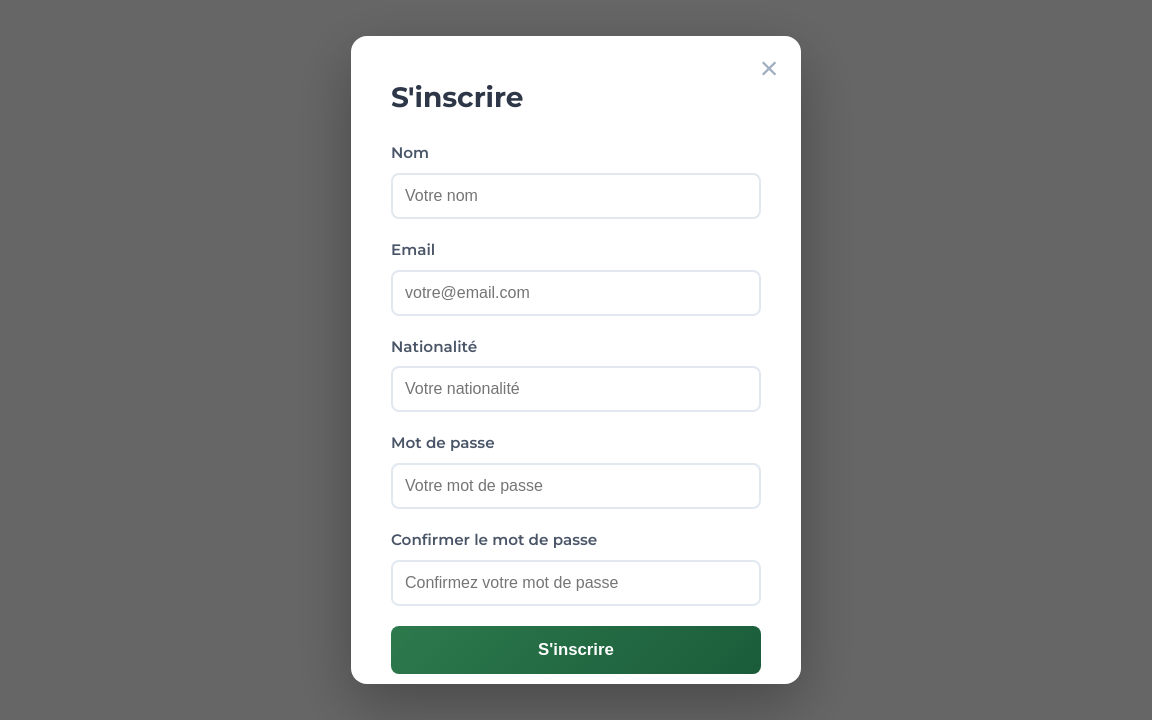
RegisterModal Component › shows error when passwords do not match
Type "John Doe" into the field with placeholder "Votre nom" at (576, 196), box [391,173,761,219]
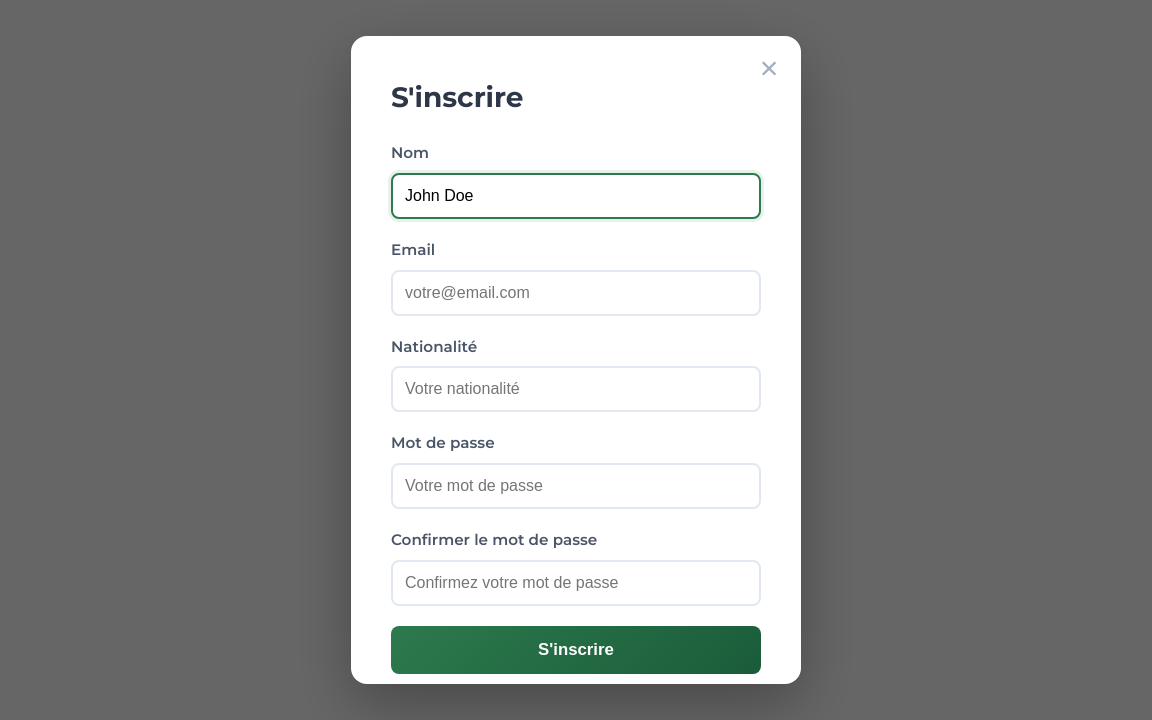
Type "john@example.com" into the field with placeholder "votre@email.com" at (576, 293), box [391,270,761,316]
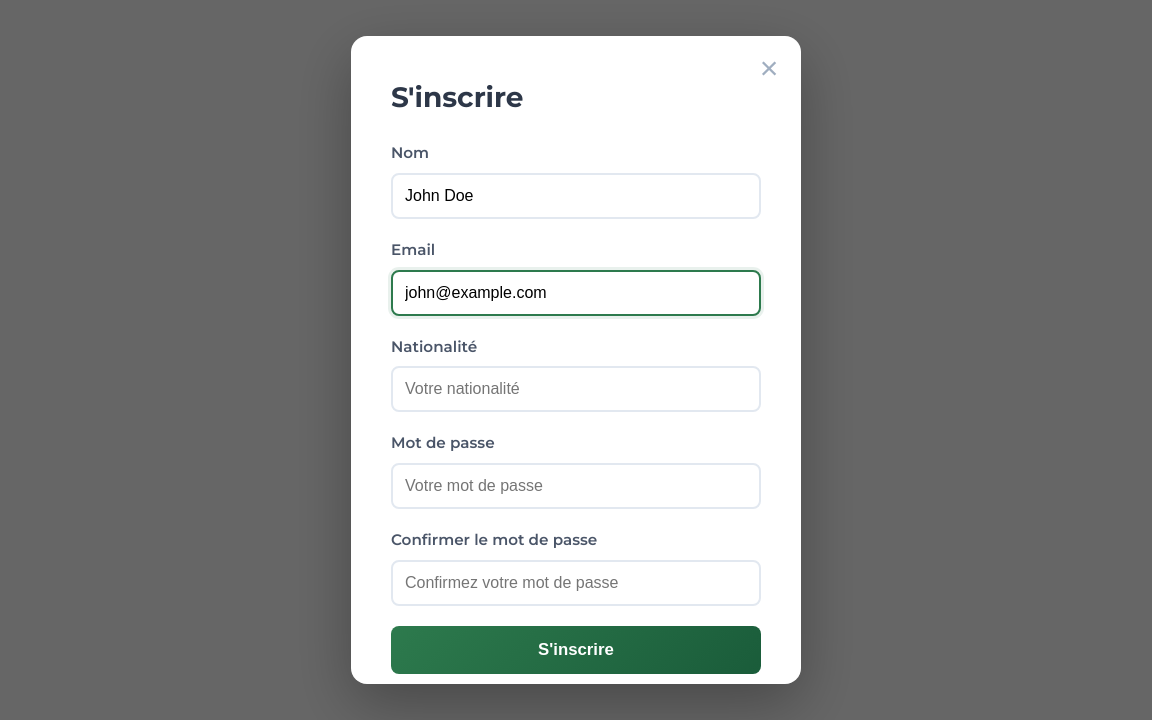
Type "France" into the field with placeholder "Votre nationalité" at (576, 389), box [391,366,761,412]
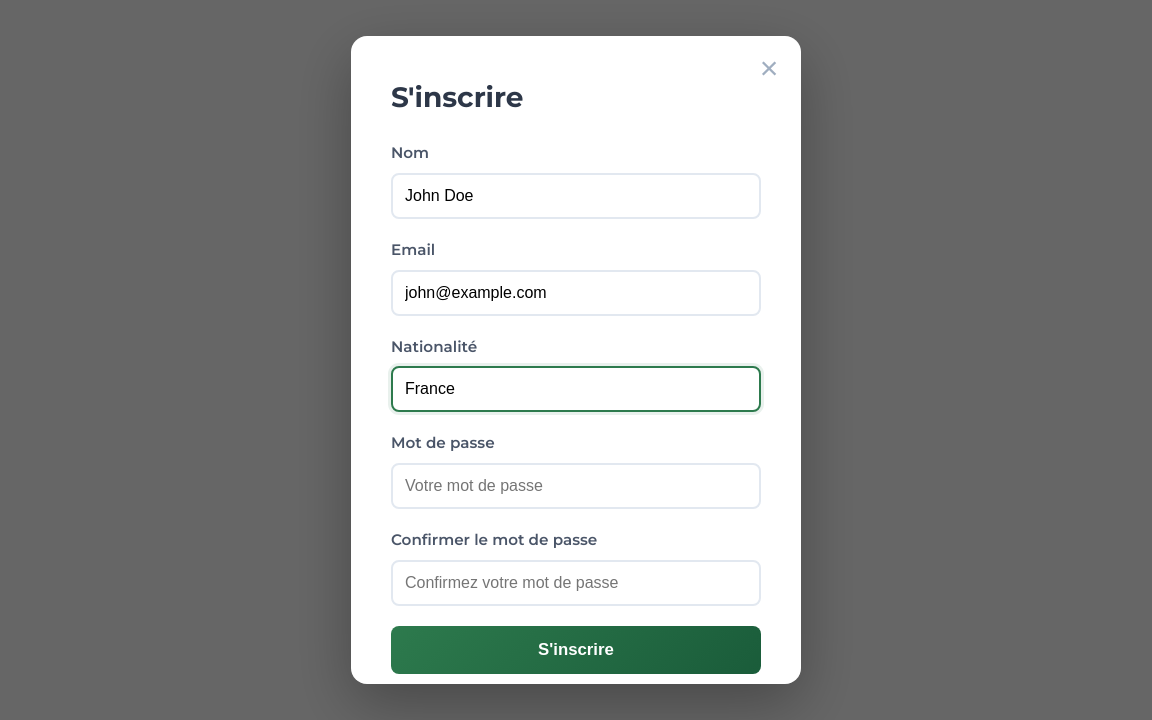
Type "password123" into the password field with placeholder "Votre mot de passe" at (576, 486), box [391,463,761,509]
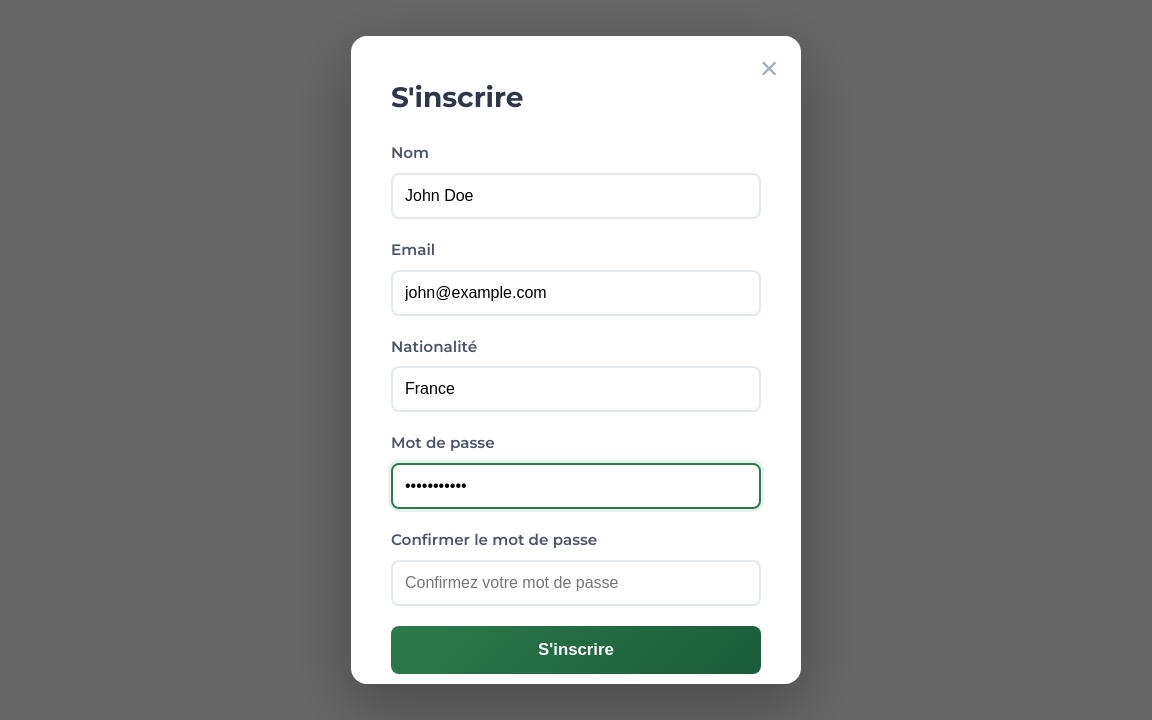
Type "different" into the password field with placeholder "Confirmez votre mot de passe" at (576, 583), box [391,560,761,606]
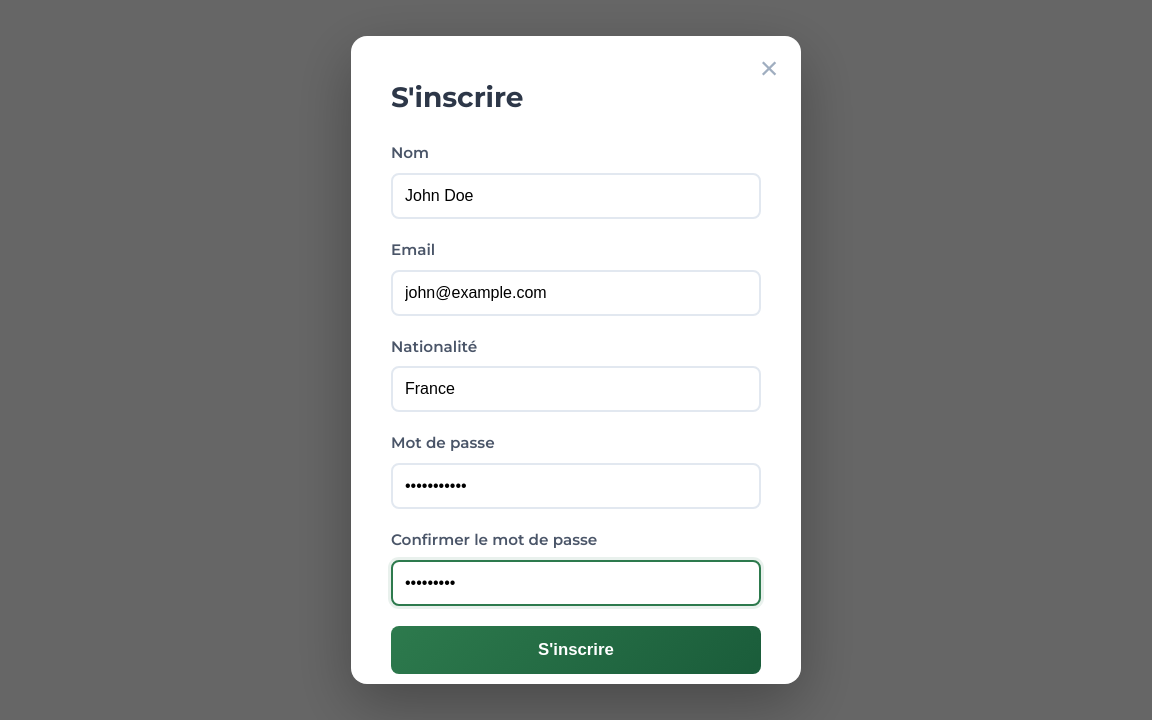
Click the button "S'inscrire" at (576, 650), box [391,626,761,674]
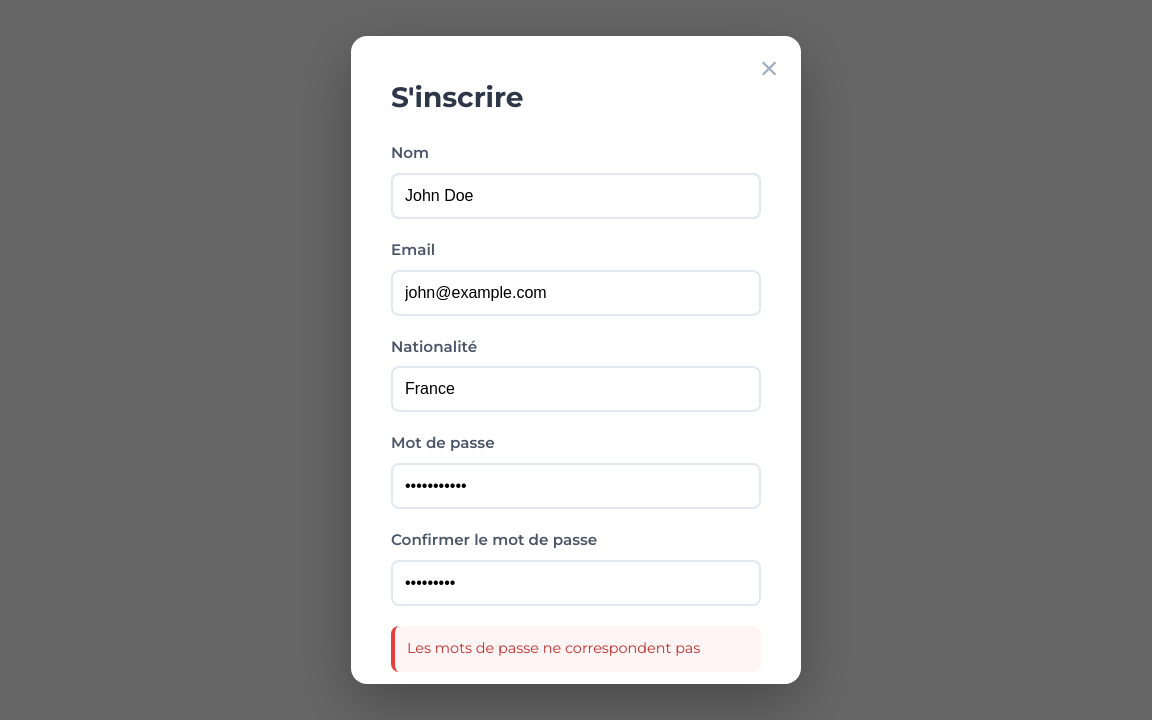
Expected: the text "Les mots de passe ne correspondent pas" is shown, [391,626,761,672]
